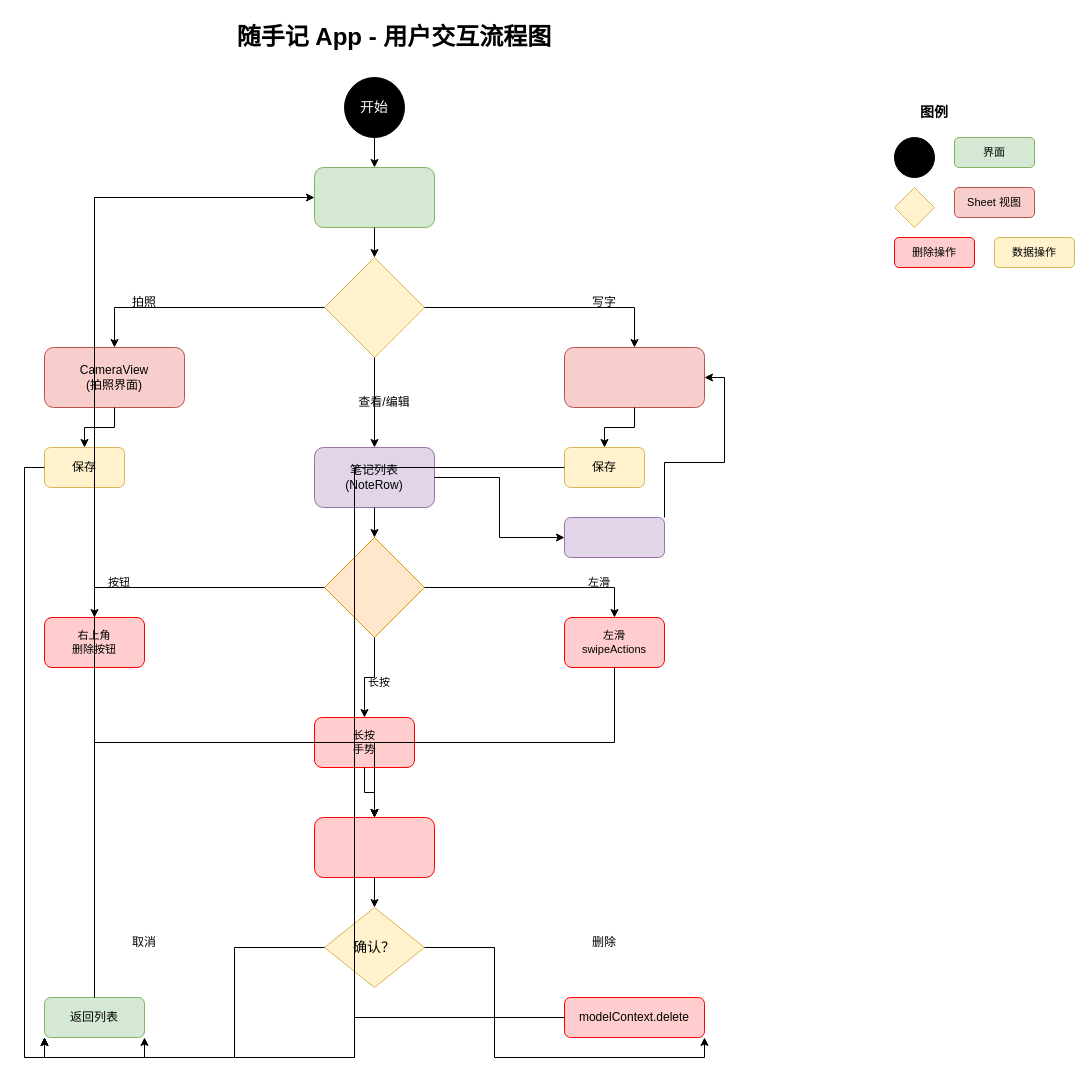
This 1092x1083 diagram has some shape labels left out. Here are the shapes that lost their labels. From the top down, the centre of each, then its label:
[914,157]: 开始/结束
[374,197]: ContentView (主界面)
[914,207]: 决策
[374,307]: 用户操作？
[634,377]: TextEditorView (文字编辑)
[614,537]: 编辑笔记
[374,587]: 删除方式？
[374,847]: 确认对话框 (Alert)
